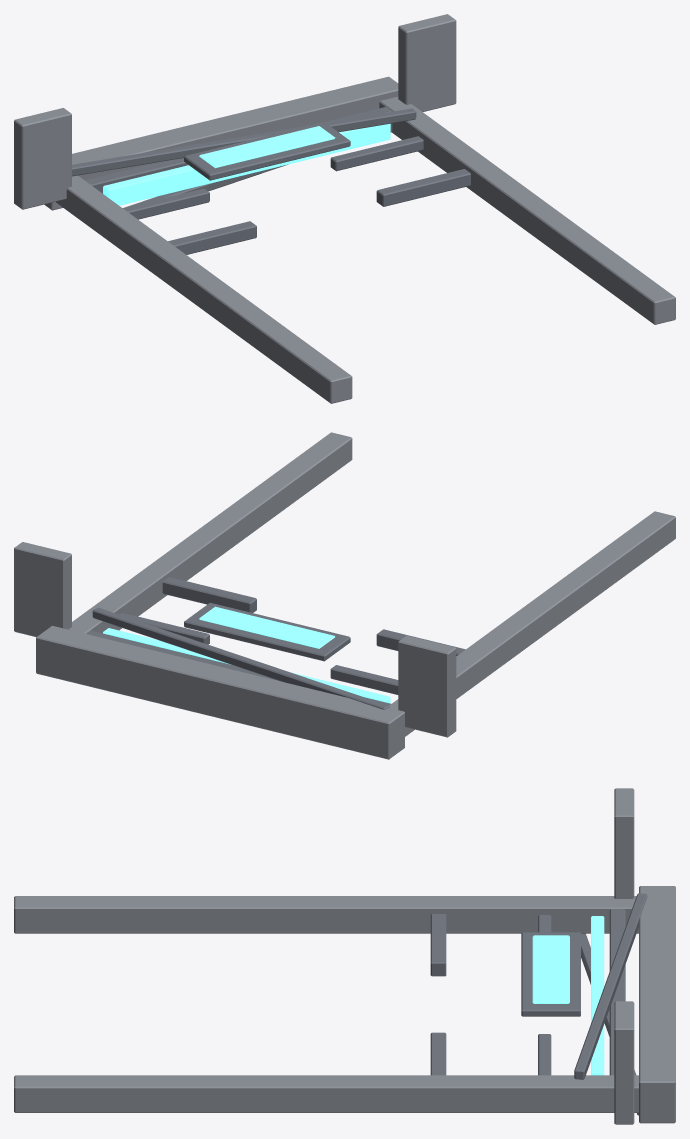
File: arch_gantry.glb
3 renders of one model, top to bottom at view 1: azimuth 30°, elevation 25°; view 2: azimuth 150°, elevation 25°; view 3: azimuth 270°, elevation 25°, orthographic. The views are drawn at different scales.
Parts seen in each view (by area): view 1: ArchGantry; view 2: ArchGantry; view 3: ArchGantry.
Boxes of the visible parts, x1,y1,x2,y2 form: ArchGantry: (14,14,675,403); ArchGantry: (14,432,675,759); ArchGantry: (14,788,675,1124).
Size of the model in its own units: 4.3 by 0.99 by 4.99.
